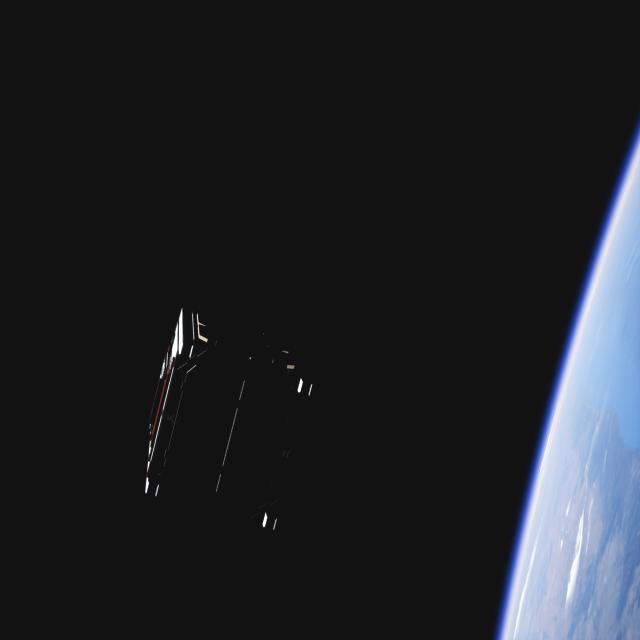medium_debris: (128, 302, 322, 539)
